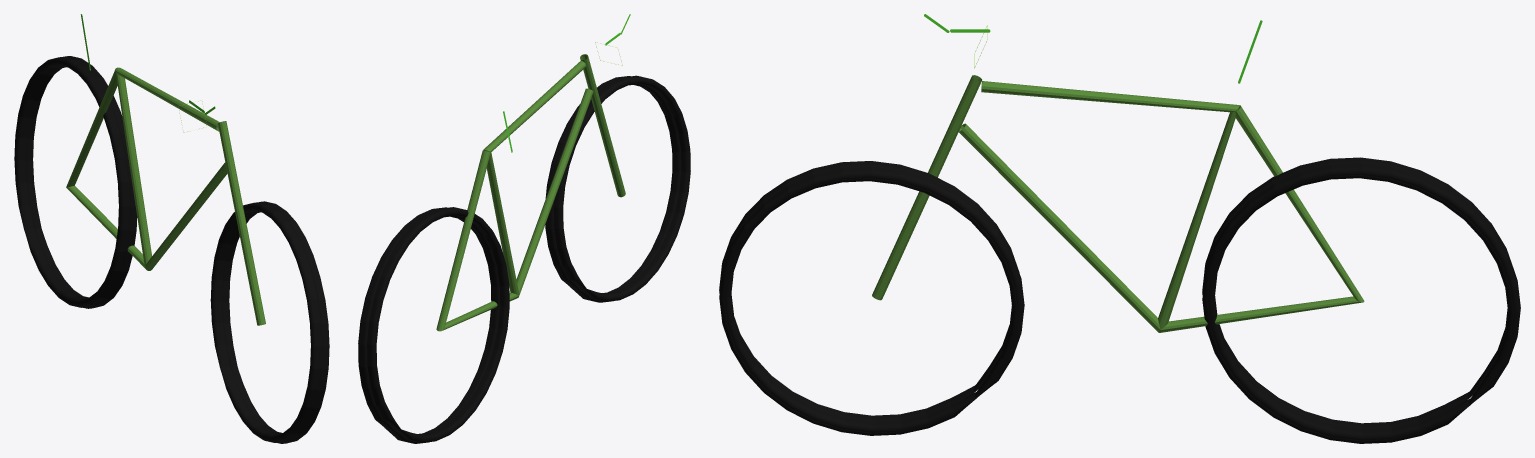
The model's file is Aufgabe1.glb.
3 views of the same model, side by side, from view 1: azimuth 30°, elevation 25°; view 2: azimuth 150°, elevation 25°; view 3: azimuth 270°, elevation 25° (orthographic). The views are drawn at different scales.
Parts seen in each view (by area): view 1: Circle.001, Circle, Object; view 2: Circle.001, Circle, Object; view 3: Circle.001, Circle, Object.
Part boxes in pixels (x1=…): Circle.001: x1=14, y1=56, x2=137, y2=308; Circle: x1=210, y1=201, x2=329, y2=443; Object: x1=66, y1=67, x2=265, y2=325; Circle.001: x1=358, y1=207, x2=509, y2=443; Circle: x1=545, y1=75, x2=690, y2=302; Object: x1=436, y1=54, x2=625, y2=331; Circle.001: x1=1202, y1=157, x2=1520, y2=443; Circle: x1=719, y1=161, x2=1024, y2=435; Object: x1=872, y1=75, x2=1364, y2=332.
Bounding box in the file's own units: 0.5726 × 2.64 × 4.66.
